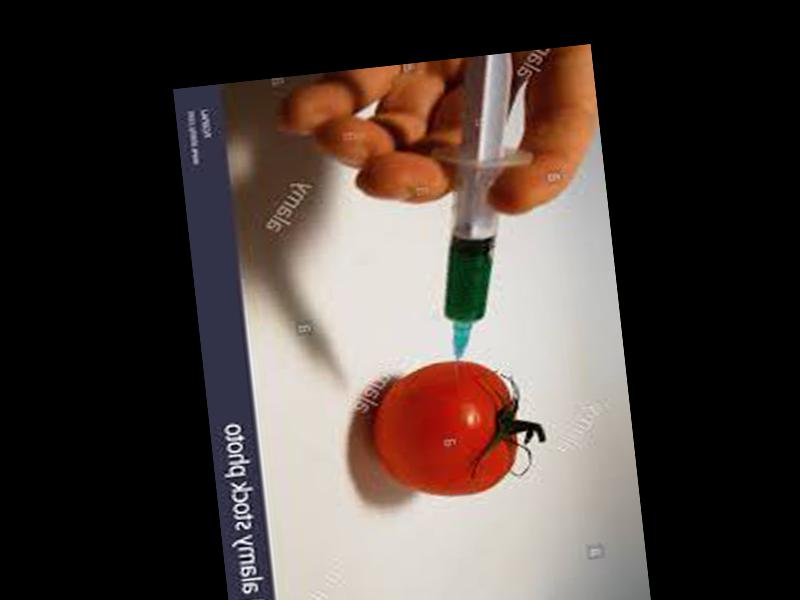Tomato: (366, 355, 521, 502)
